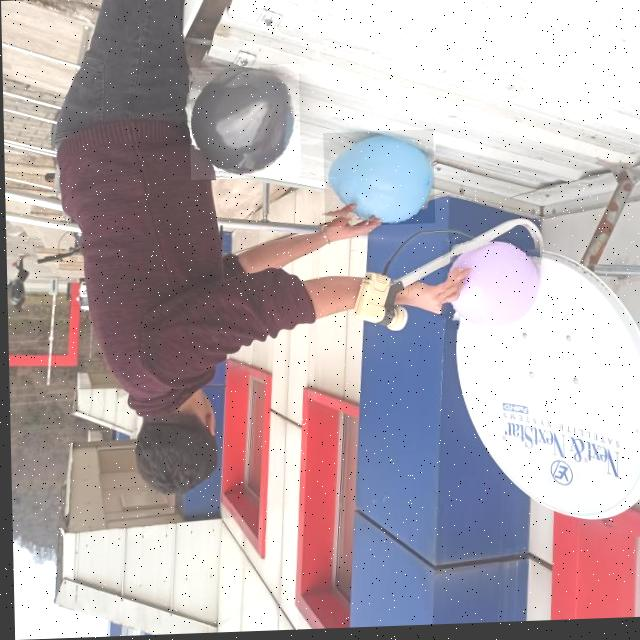balloon: (187, 65, 299, 181), (322, 132, 433, 229), (439, 241, 539, 332)
